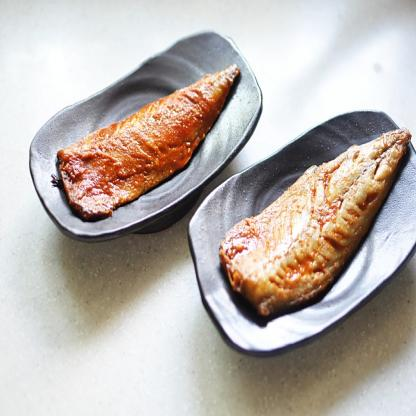Peixe: (208, 95, 416, 338), (43, 59, 256, 236)
